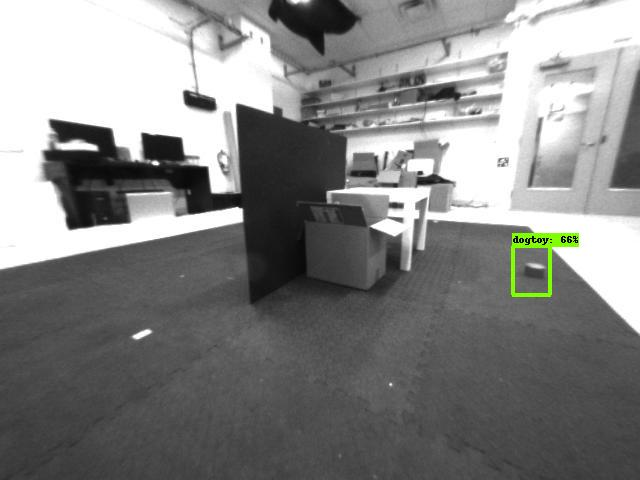dogtoy: (515, 249, 548, 289)
